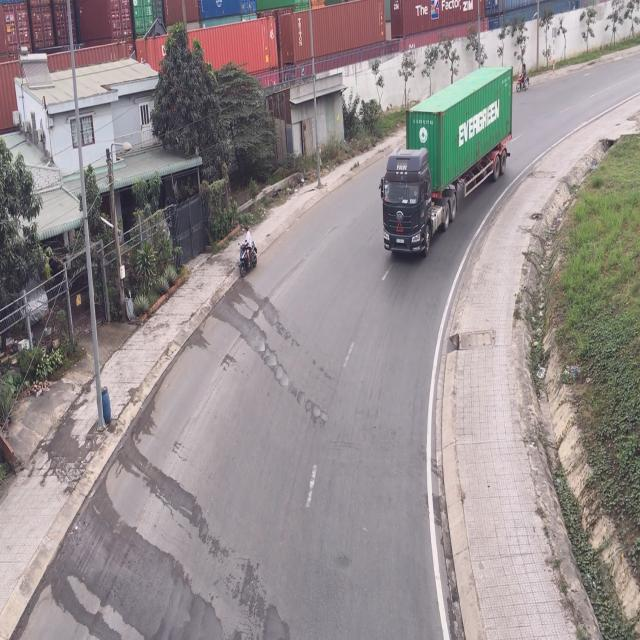motorbike: (238, 229, 259, 278)
truck: (380, 65, 514, 256)
